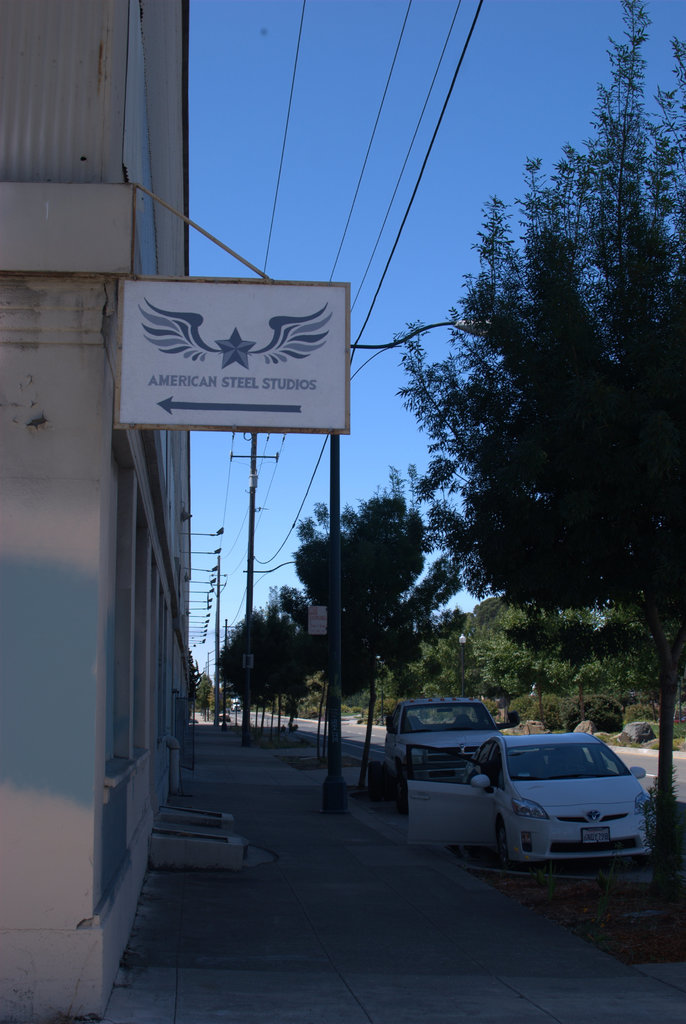Car: (401, 733, 653, 868), (380, 693, 517, 764)
